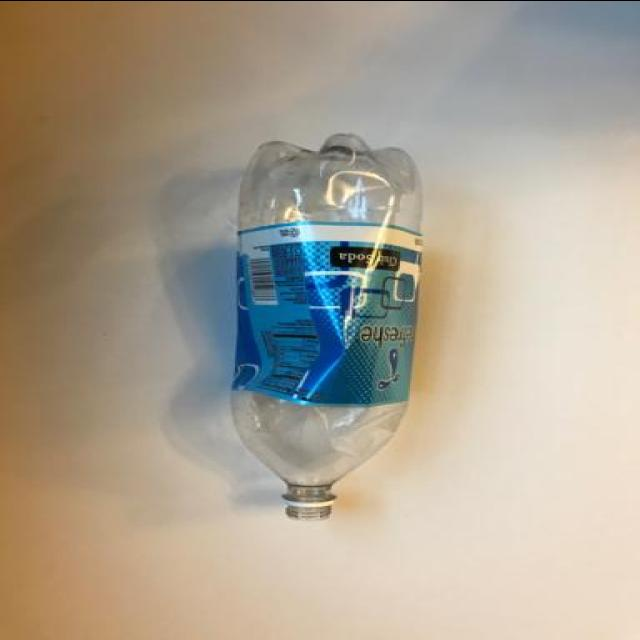PET: (228, 132, 424, 522)
